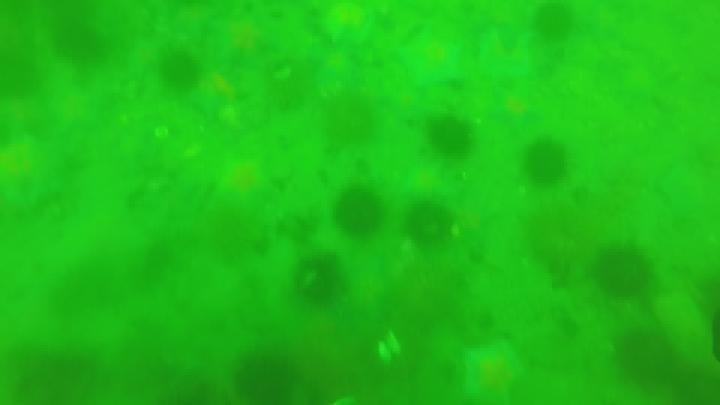echinus: (524, 204, 599, 280), (8, 348, 101, 405), (612, 328, 679, 388), (49, 264, 116, 320), (231, 351, 299, 404), (592, 245, 654, 300), (320, 92, 378, 149), (291, 253, 345, 307), (332, 186, 385, 239), (403, 200, 456, 249), (51, 20, 106, 65), (521, 139, 570, 187), (425, 115, 475, 159), (1, 50, 43, 101), (157, 49, 203, 93), (531, 3, 577, 44)
starfish: (1, 134, 77, 216), (394, 28, 467, 91), (458, 340, 528, 405), (209, 154, 279, 217), (206, 12, 279, 70), (187, 68, 245, 120), (314, 2, 378, 48), (398, 163, 454, 205), (487, 90, 541, 133), (310, 47, 359, 89)
